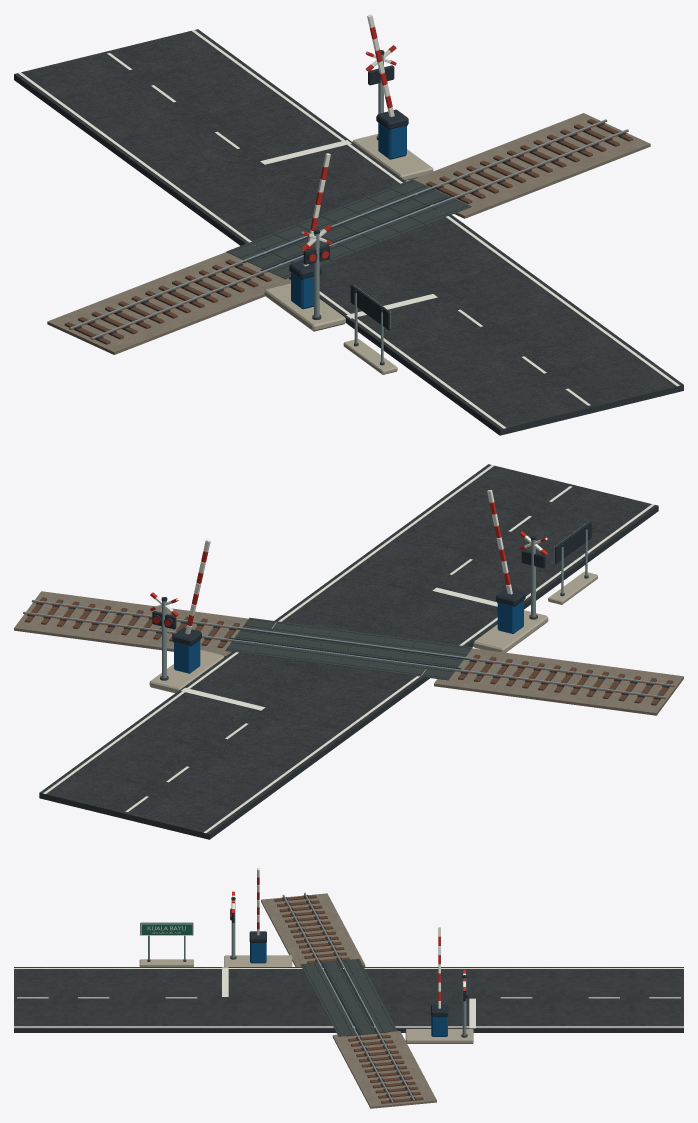
3 renders of one model, top to bottom at view 1: azimuth 30°, elevation 25°; view 2: azimuth 150°, elevation 25°; view 3: azimuth 270°, elevation 25°, orthographic. The views are drawn at different scales.
Parts seen in each view (by area): view 1: Carriageway, Ballast shoulders, Rubber crossing panels, Hardwood sleepers, Running and check rails, Edge paint, Crossing islands, Gate pedestal, Counterbalanced arms, Panel tread, Tie plates, Wayfinding plaque (+4 smaller); view 2: Carriageway, Ballast shoulders, Rubber crossing panels, Running and check rails, Hardwood sleepers, Edge paint, Crossing islands, Gate pedestal, Panel tread, Counterbalanced arms, Wayfinding plaque, Signal standard (+4 smaller); view 3: Carriageway, Ballast shoulders, Rubber crossing panels, Hardwood sleepers, Edge paint, Crossing islands, Running and check rails, Wayfinding plaque, Gate pedestal, Tie plates, Signal standard, Panel tread (+5 smaller).
Part boxes in pixels (<box>): Carriageway: <box>14,29,683,435</box>; Ballast shoulders: <box>47,113,650,354</box>; Rubber crossing panels: <box>226,179,471,279</box>; Hardwood sleepers: <box>64,119,633,344</box>; Running and check rails: <box>69,119,628,339</box>; Edge paint: <box>18,30,679,428</box>; Crossing islands: <box>264,134,433,331</box>; Gate pedestal: <box>291,123,406,309</box>; Counterbalanced arms: <box>303,14,394,266</box>; Panel tread: <box>229,180,468,277</box>; Tie plates: <box>73,121,625,339</box>; Wayfinding plaque: <box>350,284,390,365</box>; Carriageway: <box>39,464,658,839</box>; Ballast shoulders: <box>14,591,683,715</box>; Rubber crossing panels: <box>225,617,472,680</box>; Running and check rails: <box>23,600,674,698</box>; Hardwood sleepers: <box>24,597,673,705</box>; Edge paint: <box>43,465,654,833</box>; Crossing islands: <box>149,610,548,693</box>; Gate pedestal: <box>174,600,523,673</box>; Panel tread: <box>227,619,470,678</box>; Counterbalanced arms: <box>185,490,512,634</box>; Wayfinding plaque: <box>554,521,591,596</box>; Signal standard: <box>160,535,537,680</box>; Carriageway: <box>14,967,683,1032</box>; Ballast shoulders: <box>261,893,436,1108</box>; Rubber crossing panels: <box>300,959,397,1036</box>; Hardwood sleepers: <box>274,895,423,1103</box>; Edge paint: <box>14,968,683,1027</box>; Crossing islands: <box>224,955,473,1043</box>; Running and check rails: <box>282,892,415,1103</box>; Wayfinding plaque: <box>140,922,193,961</box>; Gate pedestal: <box>250,942,447,1036</box>; Tie plates: <box>282,895,415,1102</box>; Signal standard: <box>230,897,467,1037</box>; Panel tread: <box>303,959,394,1035</box>.
Size of the model in its own units: 24.13 by 5.49 by 32.
Materials: 15 (2 with a texture image).
